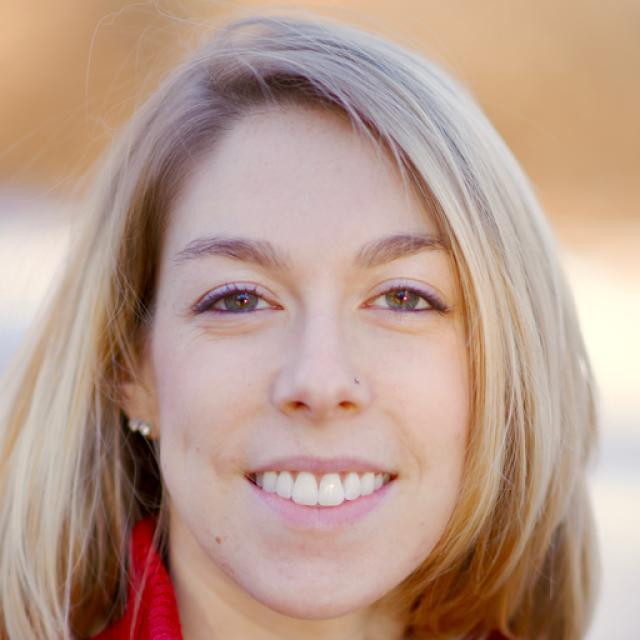happy: (154, 92, 478, 618)
